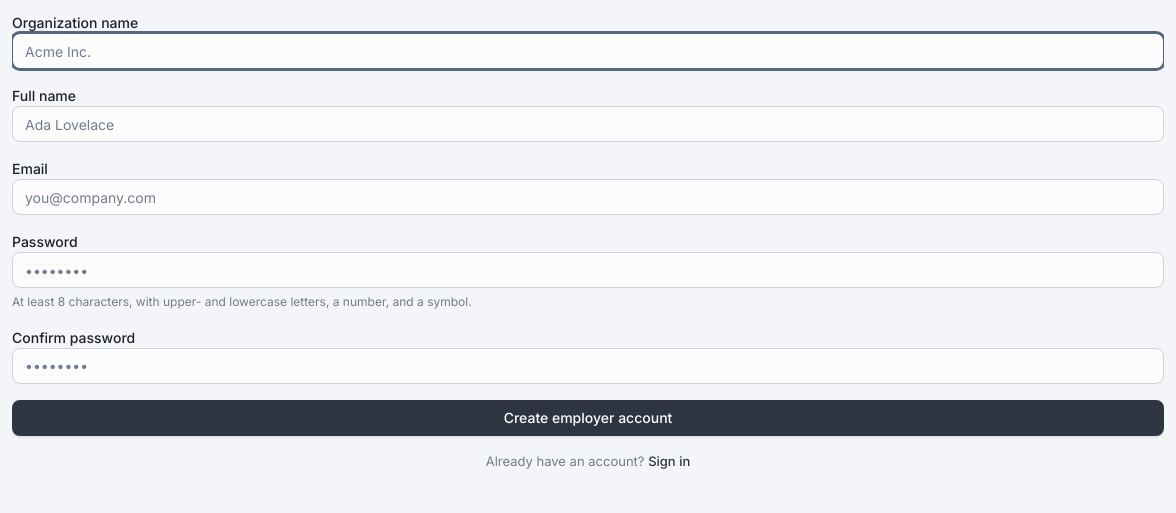
Test: HrRegisterForm › requires an organization name
The image size is (1176, 513).
Type "Grace Hopper" into the field labelled "Full name" at coordinates (588, 124), box [12,106,1164,142]
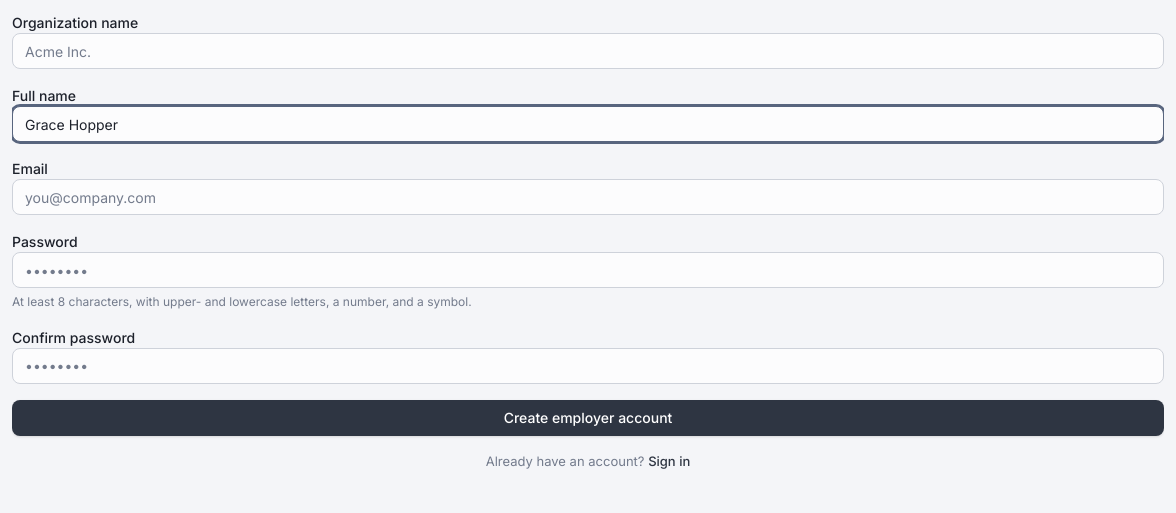
Type "grace@acme.test" into the field labelled "Email" at coordinates (588, 197), box [12,179,1164,215]
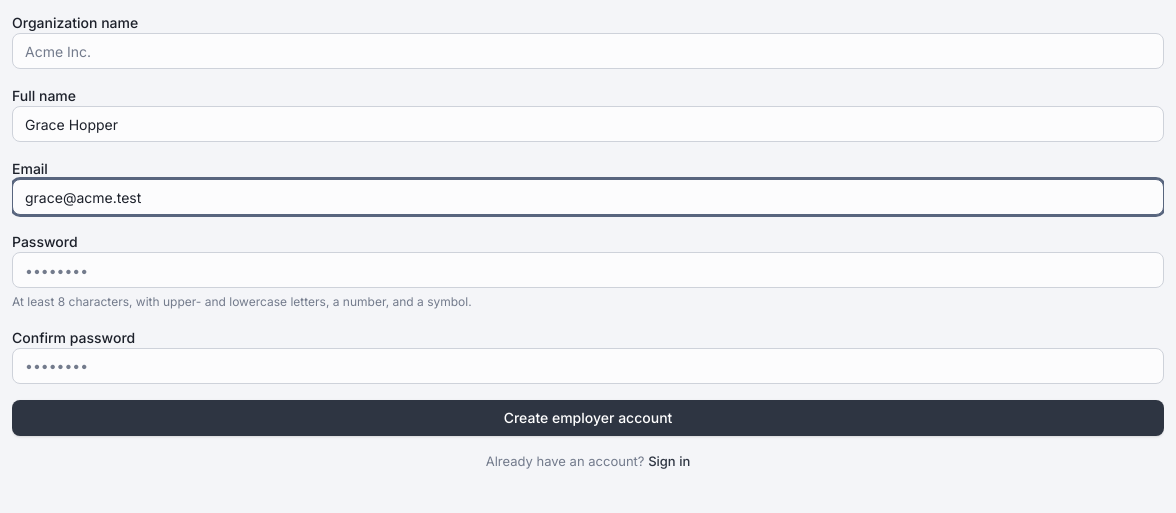
Type "Str0ng!!" into the password field labelled "Password" at coordinates (588, 270), box [12,252,1164,288]
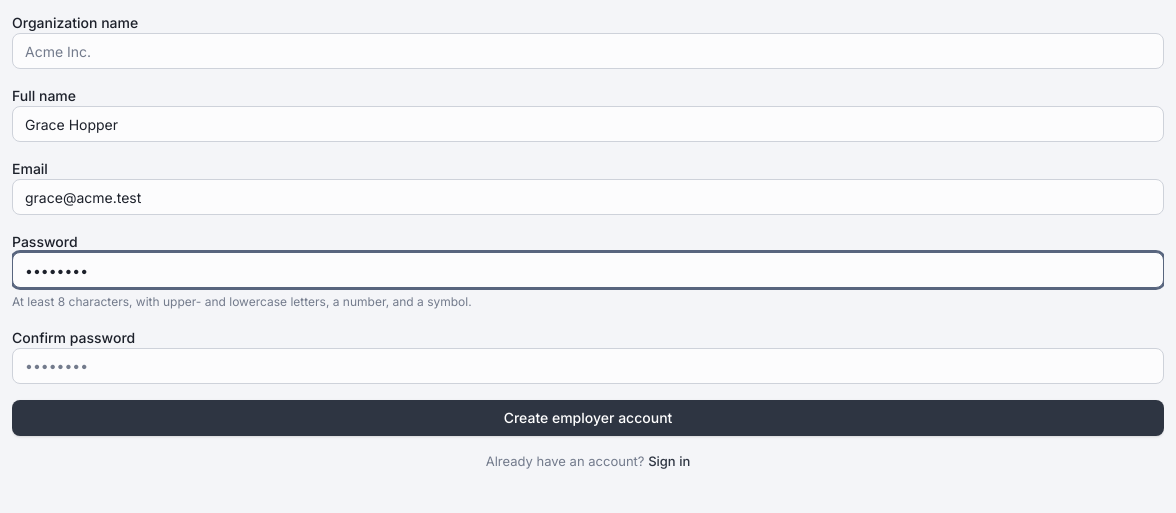
Type "Str0ng!!" into the password field labelled "Confirm password" at coordinates (588, 366), box [12,348,1164,384]
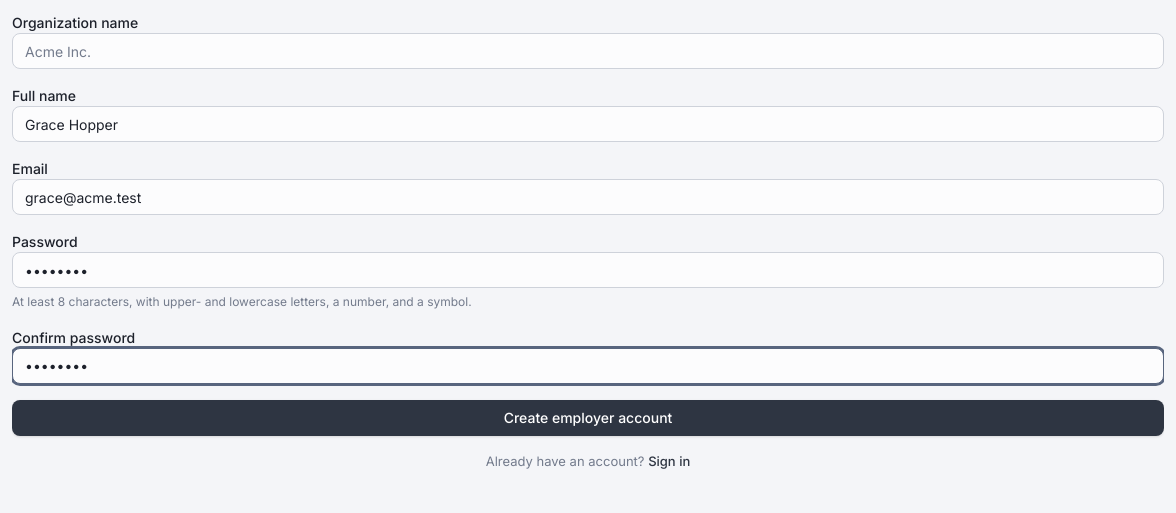
Click the button "Create employer account" at coordinates (588, 418), box [12,400,1164,436]
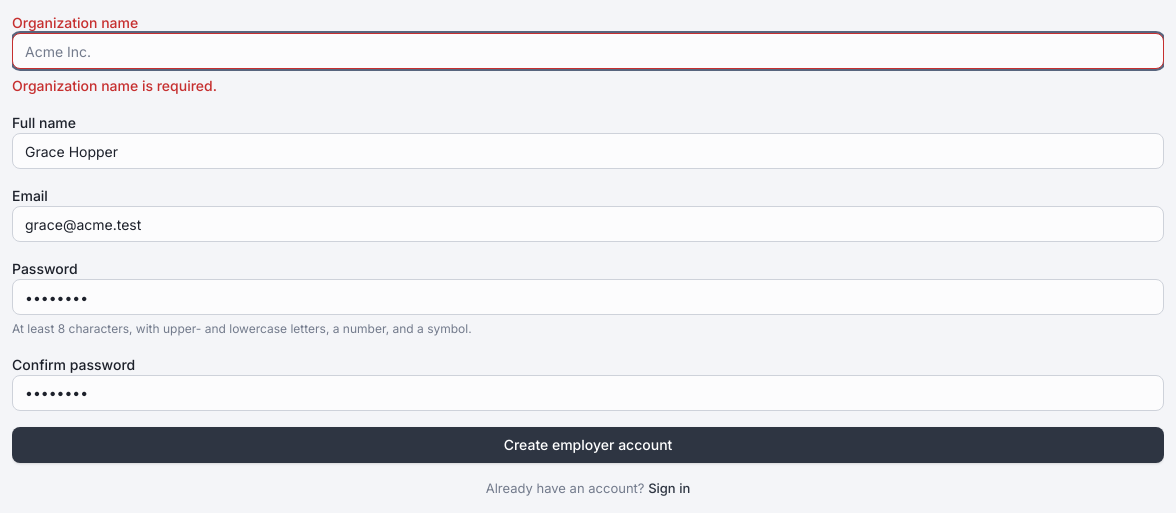
Check: the text "Organization name is required." is shown, box [12,77,217,94]
